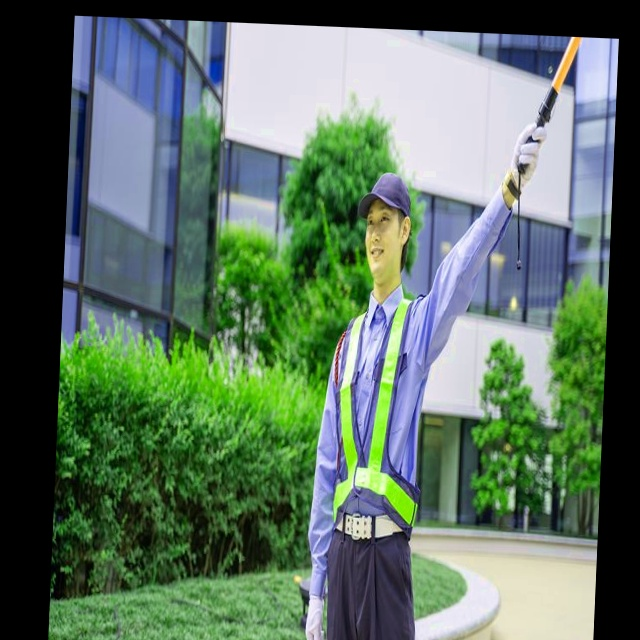Con_Chaleco: (326, 295, 428, 541)
Sin_Casco_Mascarrilla: (357, 171, 415, 290)
